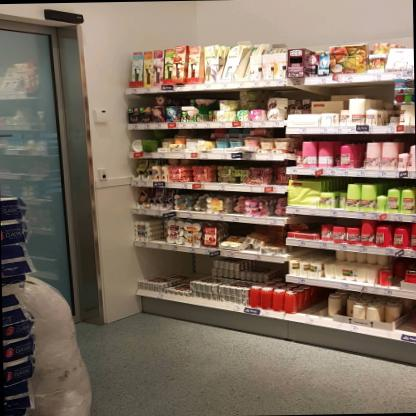empty_space: (310, 288, 322, 312), (157, 216, 166, 244), (407, 305, 415, 330)
